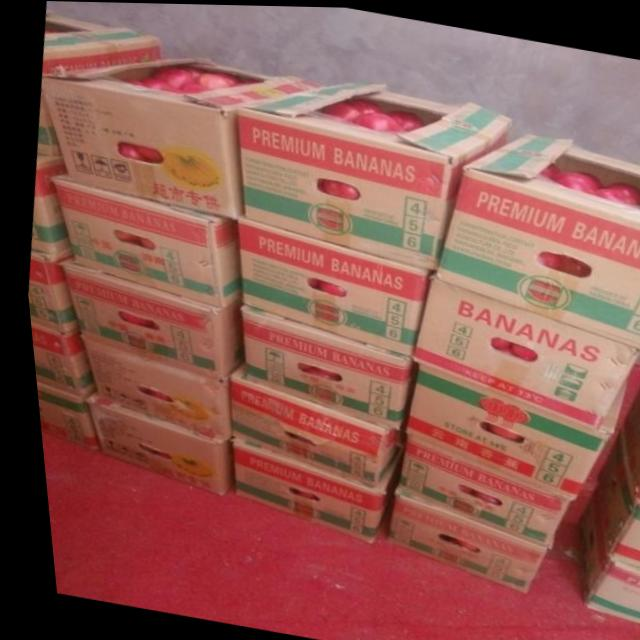box: (236, 80, 511, 268), (39, 57, 324, 218), (432, 132, 640, 349), (405, 274, 634, 428), (396, 362, 618, 498), (233, 216, 425, 355), (47, 173, 237, 308), (54, 256, 238, 380), (221, 362, 395, 487), (234, 304, 404, 428), (386, 432, 561, 545), (222, 437, 392, 544), (377, 489, 539, 591), (75, 336, 224, 440), (77, 392, 222, 495), (567, 483, 640, 625), (586, 424, 640, 572), (41, 9, 161, 74), (24, 323, 89, 398), (29, 381, 91, 452), (23, 246, 70, 332), (27, 153, 65, 254), (612, 367, 640, 502), (34, 89, 59, 157)
